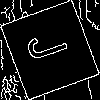J: (25, 25, 79, 64)
